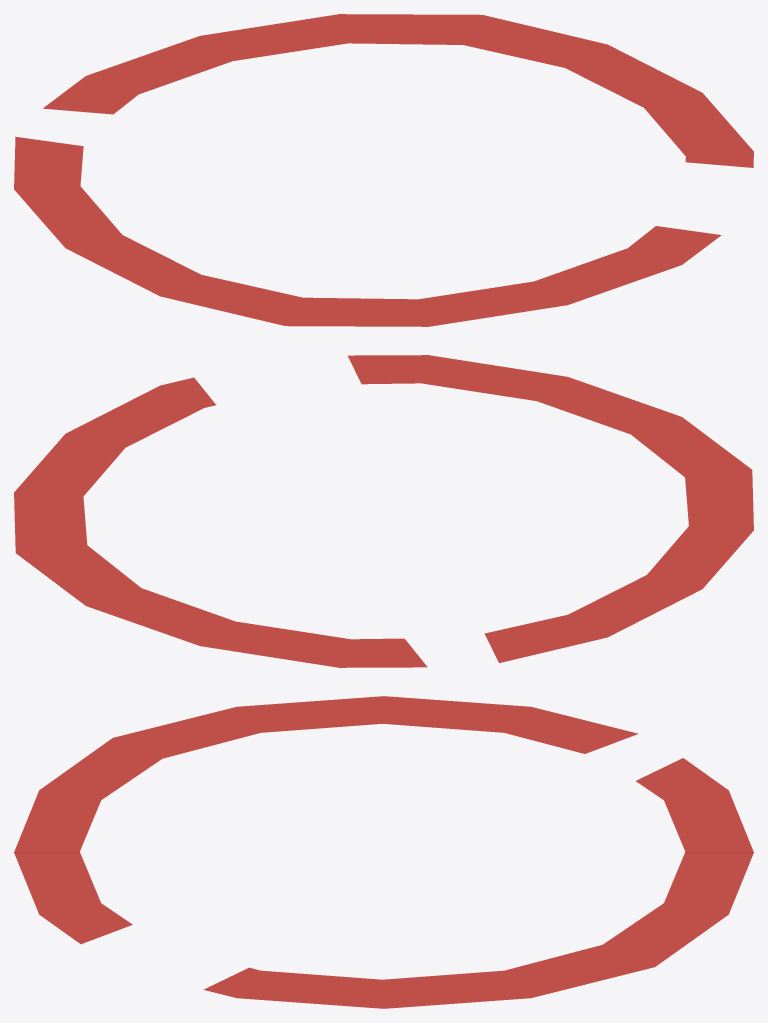
The model's file is enemy_indicator.gltf.
3 views of the same model, one above another, from view 1: azimuth 30°, elevation 25°; view 2: azimuth 150°, elevation 25°; view 3: azimuth 270°, elevation 25° (orthographic).
Visible parts, largest first — view 1: player indicator; view 2: player indicator; view 3: player indicator.
Boxes of the visible parts, <box> form: player indicator: <box>14,14,753,326</box>; player indicator: <box>14,355,753,667</box>; player indicator: <box>14,696,753,1008</box>.
Bounding box in the file's own units: 42.66 × 0 × 42.66.
Materials: 1 (1 with a texture image).
